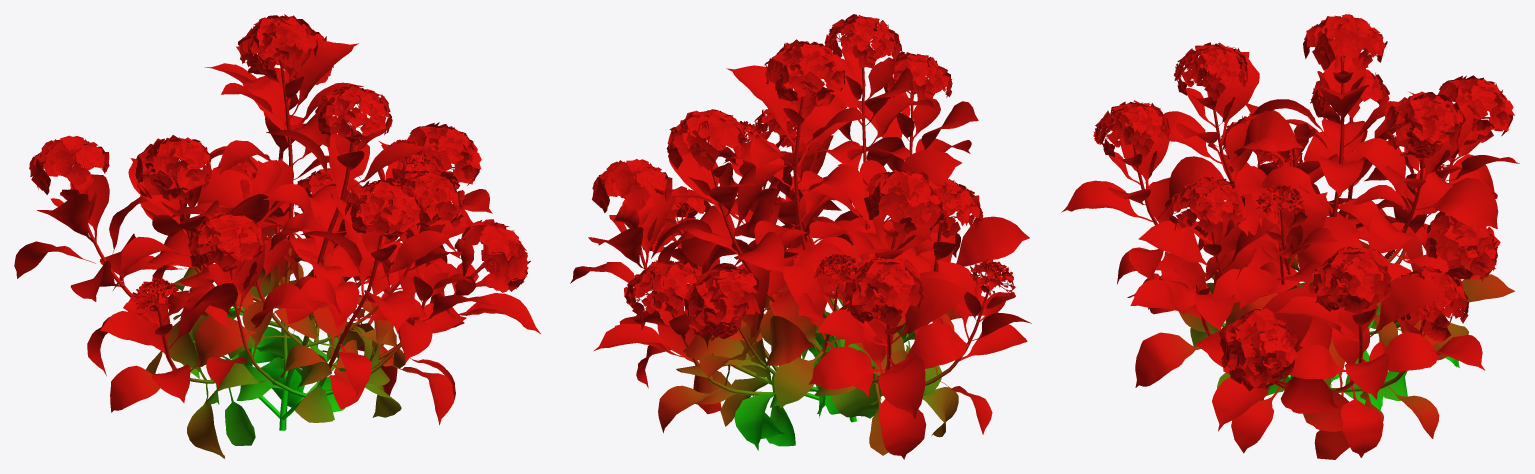
The model's file is Var2_LOD1.fbx.
3 views of the same model, side by side, from view 1: azimuth 30°, elevation 25°; view 2: azimuth 150°, elevation 25°; view 3: azimuth 270°, elevation 25° (orthographic).
Parts seen in each view (by area): view 1: _2yj1_Var2_LOD1; view 2: _2yj1_Var2_LOD1; view 3: _2yj1_Var2_LOD1.
Part boxes in pixels (x1,y1,x2,y2): _2yj1_Var2_LOD1: (14, 14, 540, 458); _2yj1_Var2_LOD1: (570, 14, 1031, 459); _2yj1_Var2_LOD1: (1061, 14, 1519, 459).
Size of the model in its own units: 153 by 138 by 146.
